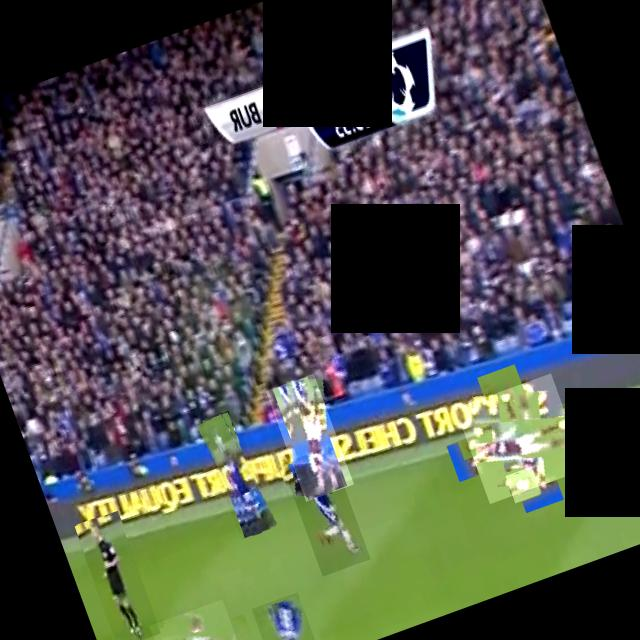referee: (72, 510, 160, 640)
soccer-player: (454, 372, 584, 503), (280, 446, 370, 576), (265, 373, 353, 501), (197, 408, 274, 540), (148, 598, 248, 640), (250, 591, 321, 640), (504, 466, 540, 502)
